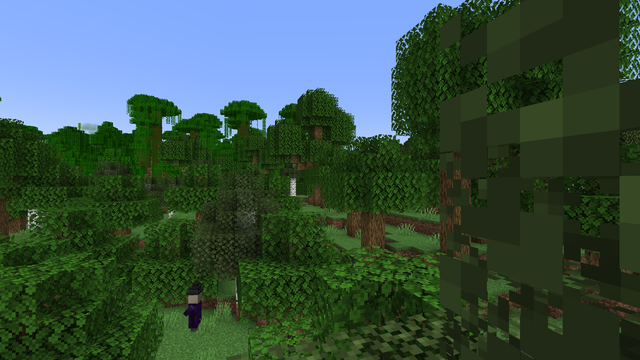sorcieres: (187, 287, 201, 332)
